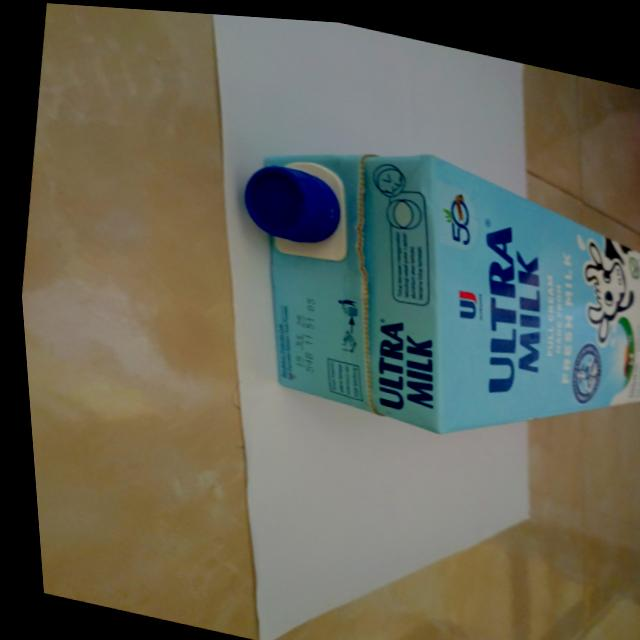indomie-mie-kocok-bandung: (203, 108, 640, 471)
